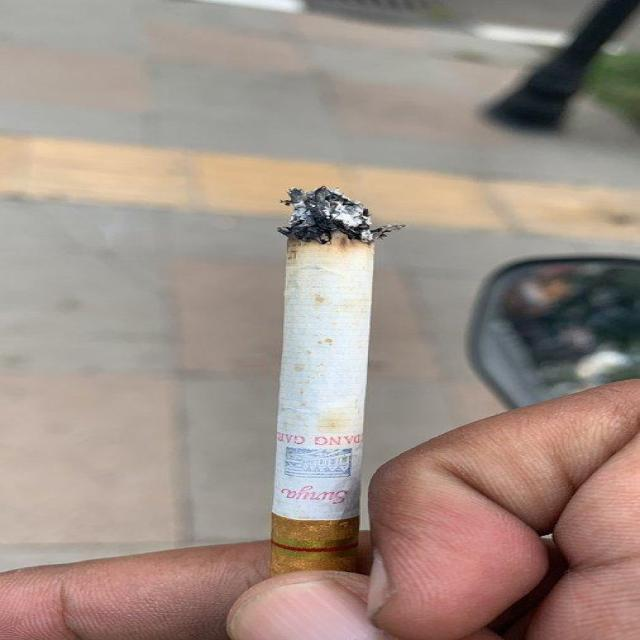rokok: (266, 178, 378, 572)
